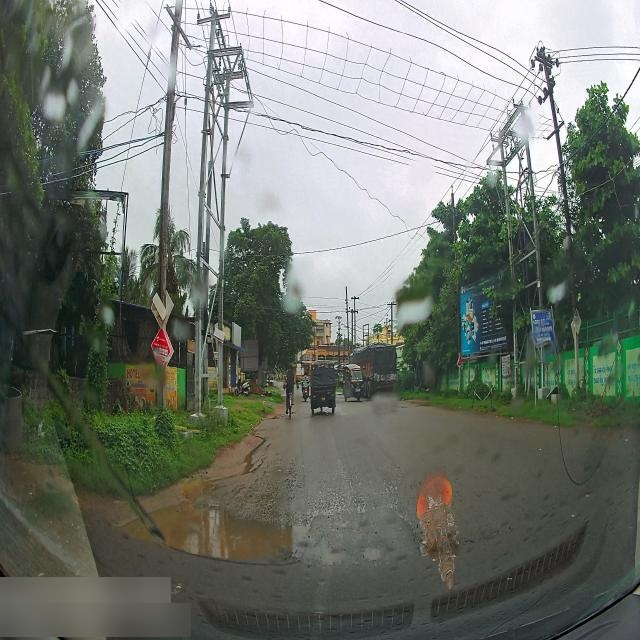pothole: (115, 486, 348, 569)
